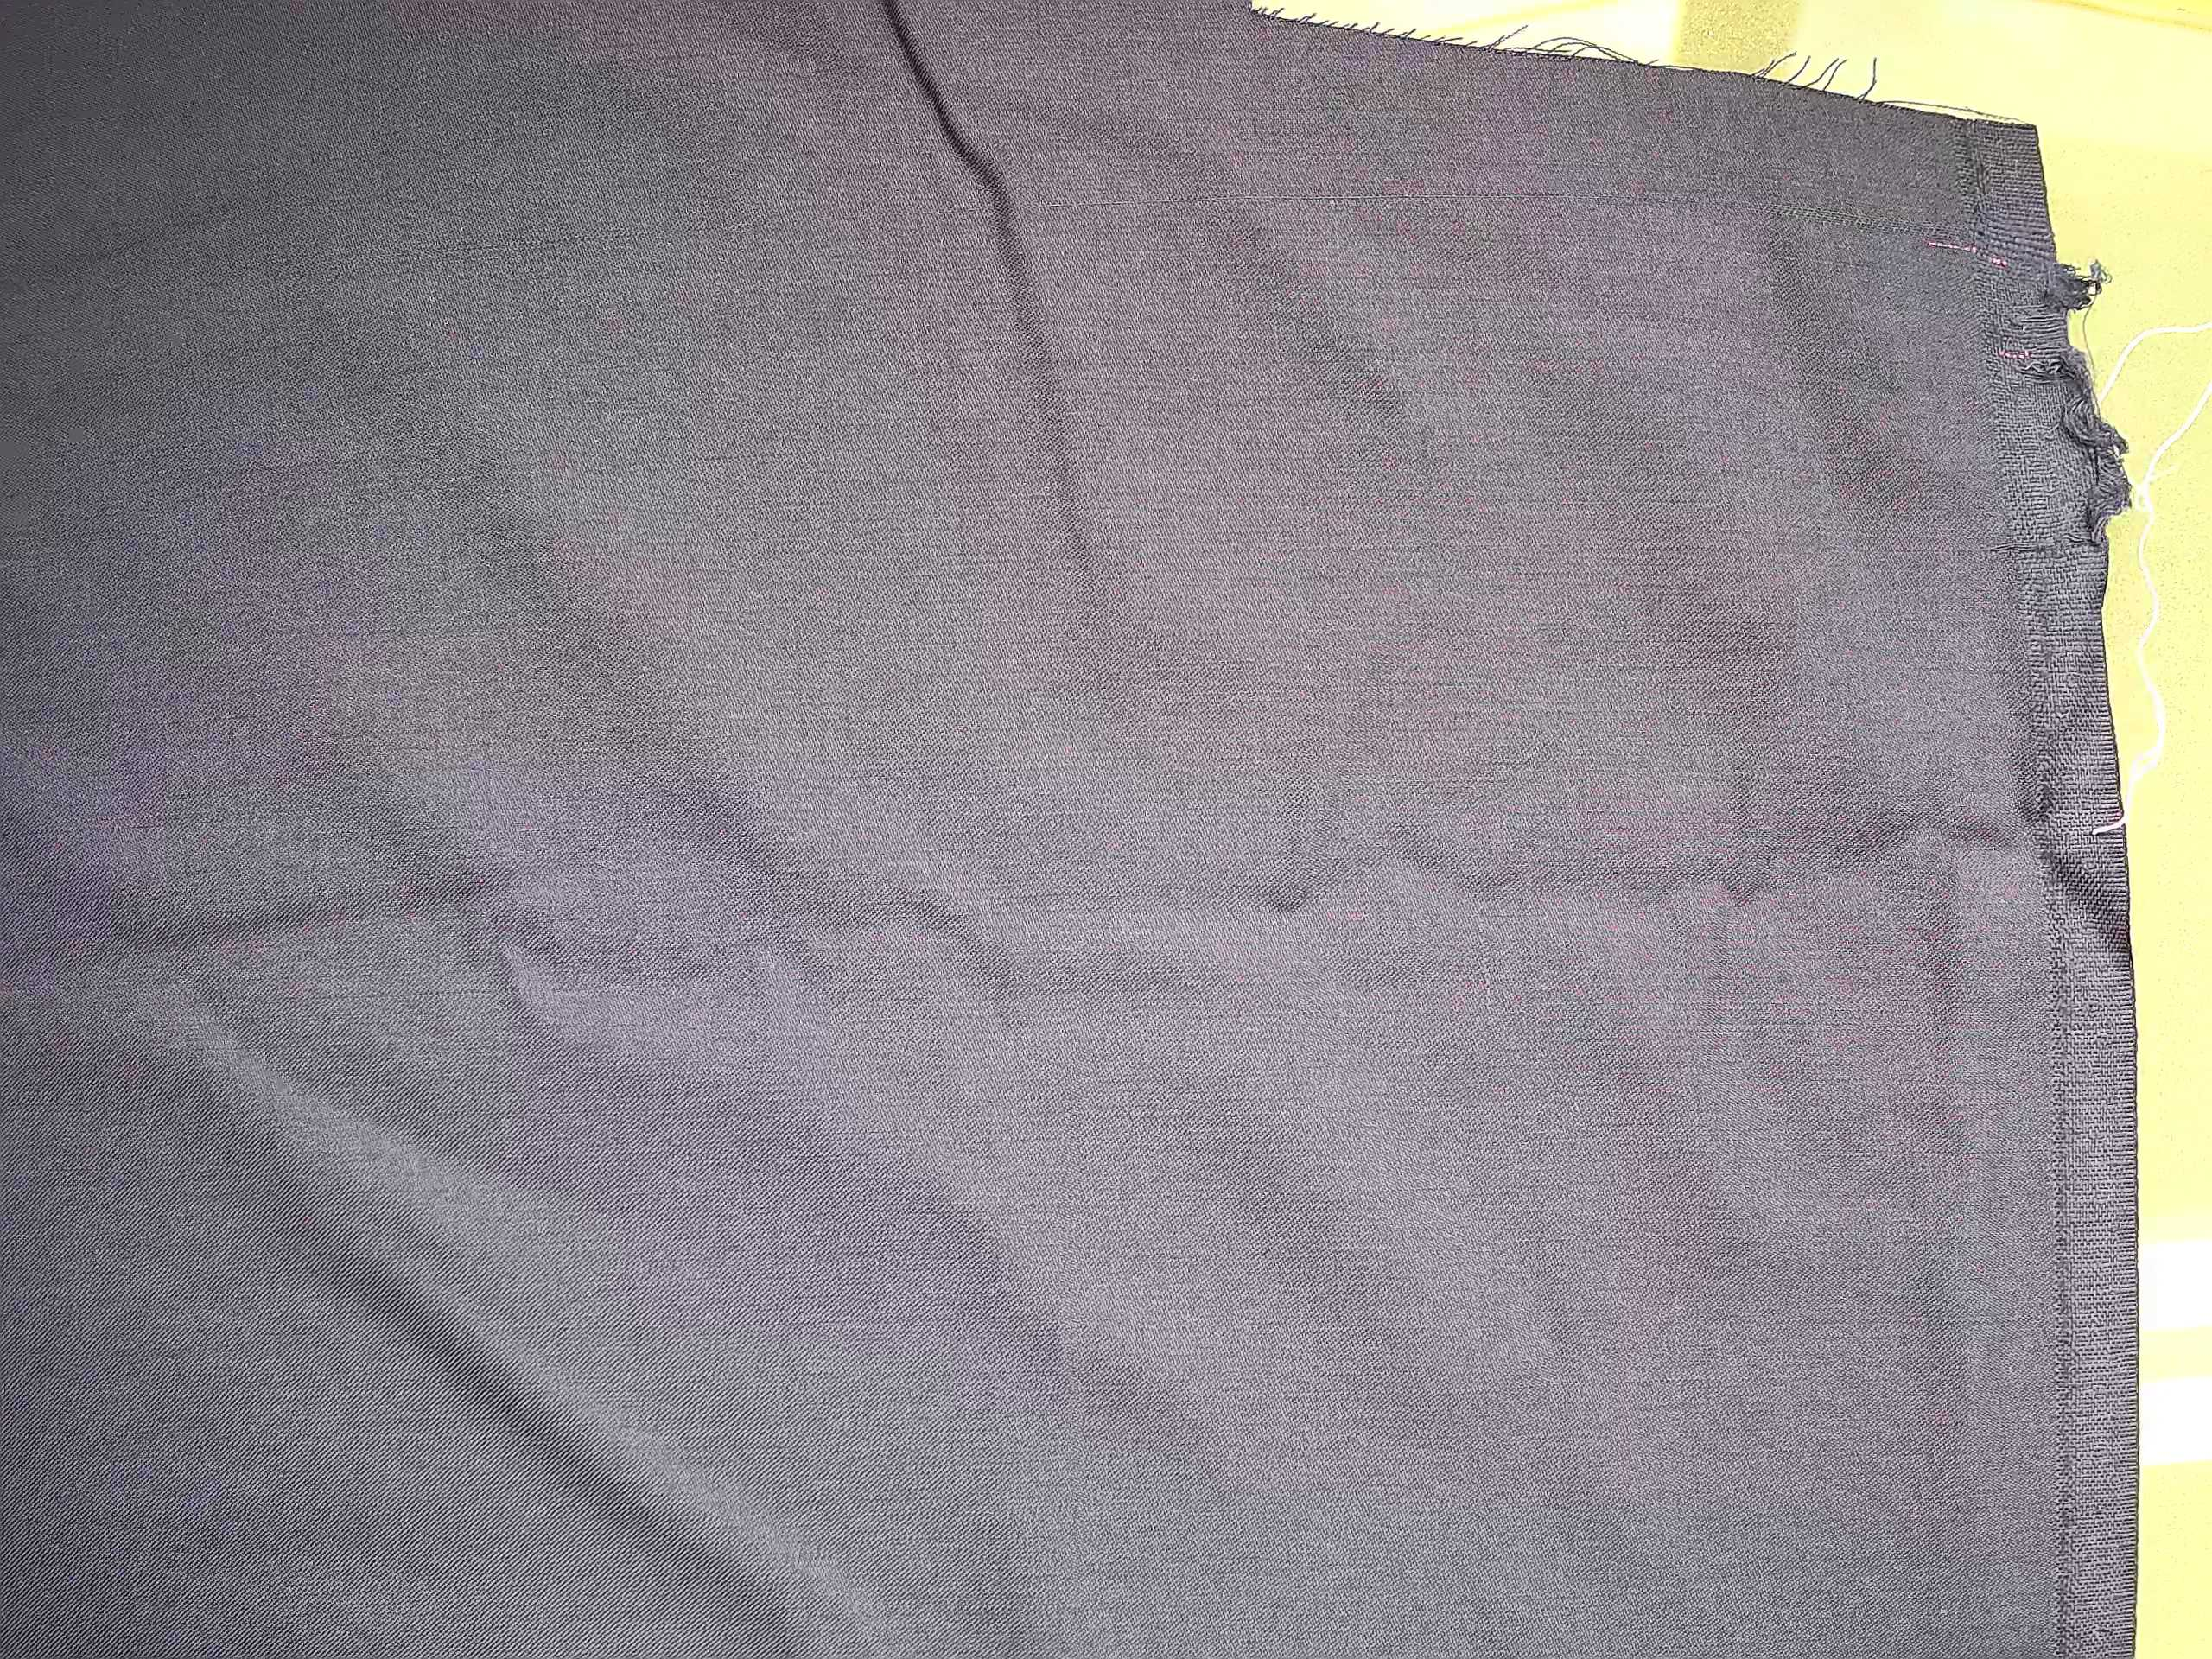thin-spinning: (1249, 162, 1977, 260), (1853, 523, 2029, 573)
